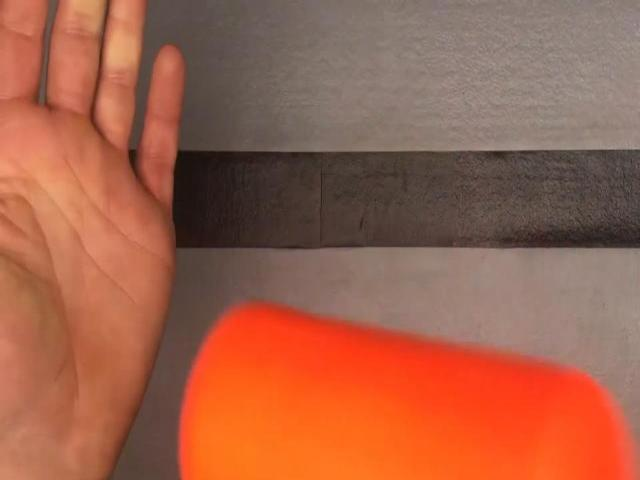hammer: (176, 304, 640, 480)
